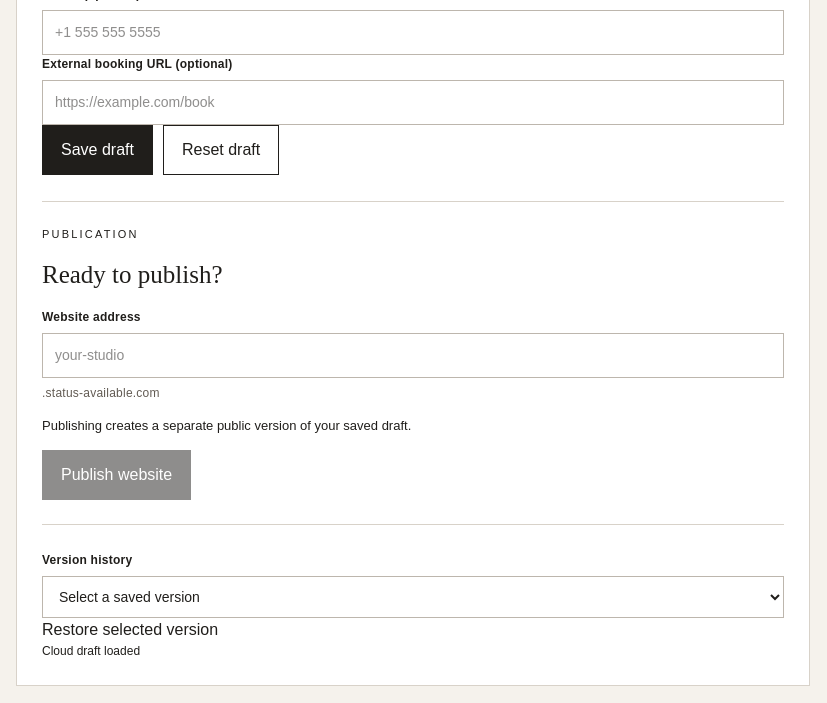
Scenario: Customer publication interface › rejects invalid and reserved addresses
The width and height of the screenshot is (827, 703).
(page scrolled)
Step 1. Clear the field with placeholder "your-studio" → (413, 355), box [42,333,784,378]
Expected: the button "Publish website" is disabled, [42,450,191,500]
Step 2. Type "ab" into the field with placeholder "your-studio" → (413, 355), box [42,333,784,378]
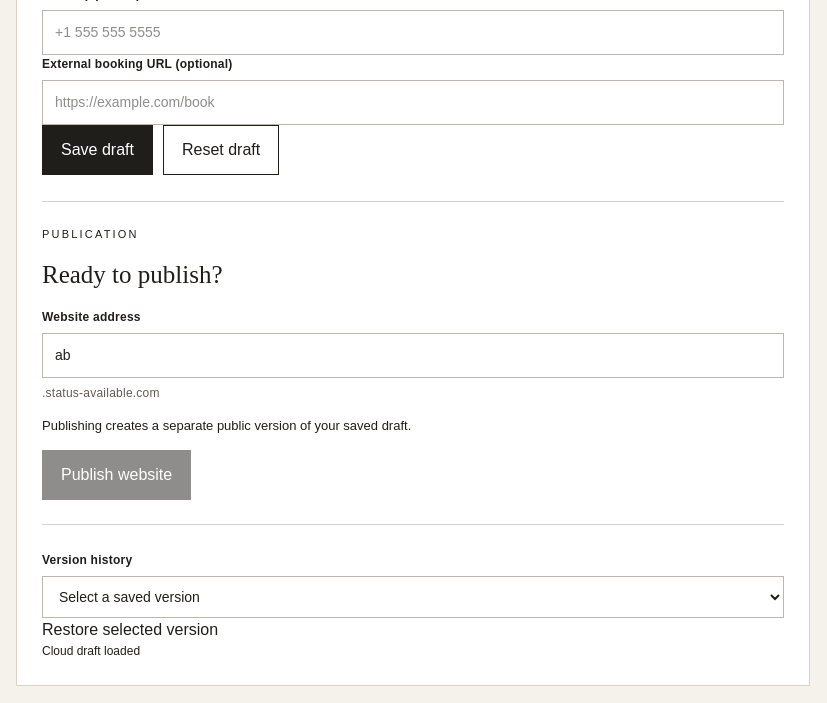
Expected: the button "Publish website" is disabled, [42,450,191,500]
Step 3. Replace the text in the field with placeholder "your-studio" with "www" → (413, 355), box [42,333,784,378]
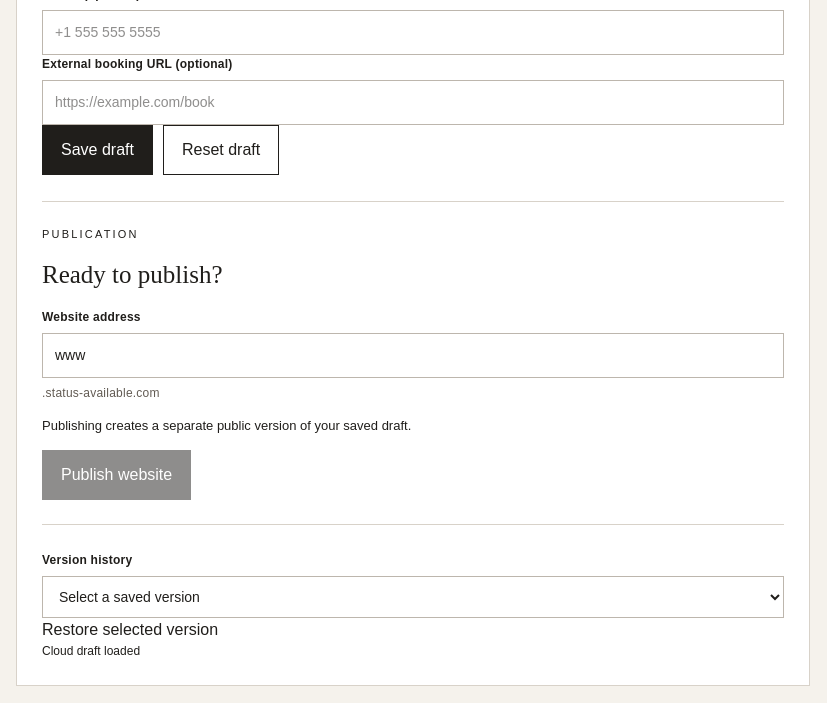
Expected: the button "Publish website" is disabled, [42,450,191,500]
Step 4. Replace the text in the field with placeholder "your-studio" with "admin" → (413, 355), box [42,333,784,378]
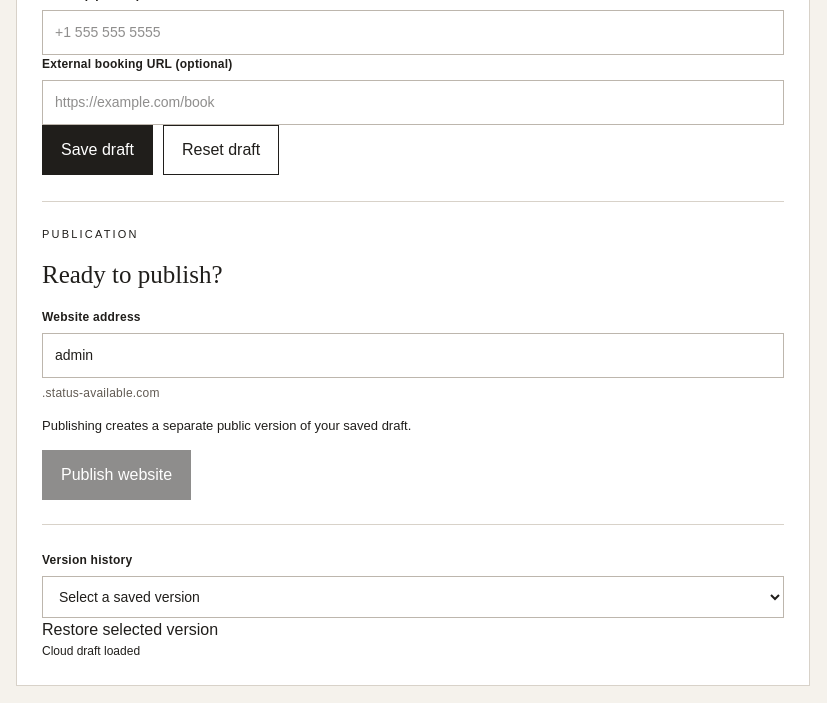
Expected: the button "Publish website" is disabled, [42,450,191,500]
Step 5. Replace the text in the field with placeholder "your-studio" with "a--b" → (413, 355), box [42,333,784,378]
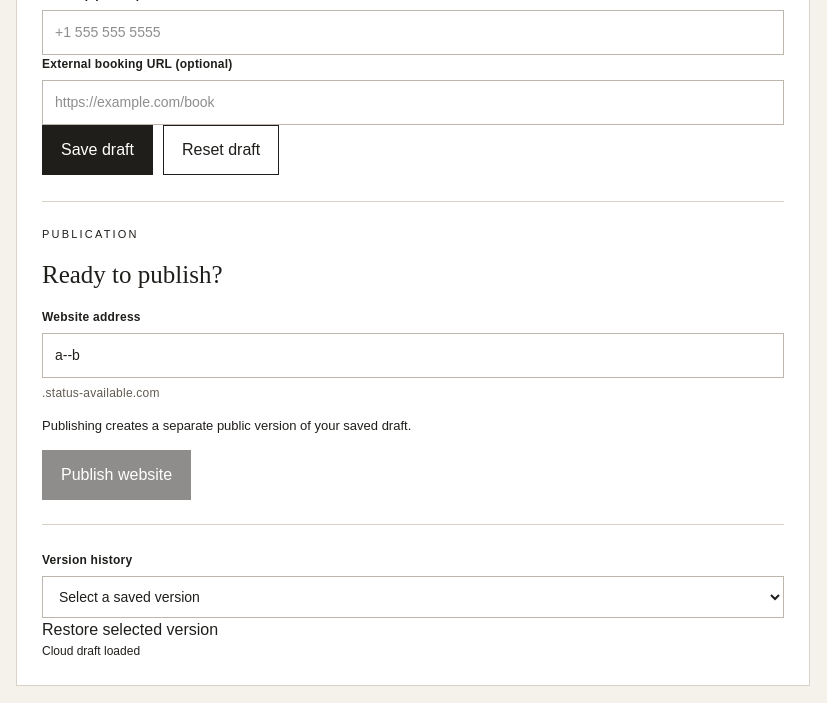
Expected: the button "Publish website" is disabled, [42,450,191,500]
Step 6. Replace the text in the field with placeholder "your-studio" with "a b" → (413, 355), box [42,333,784,378]
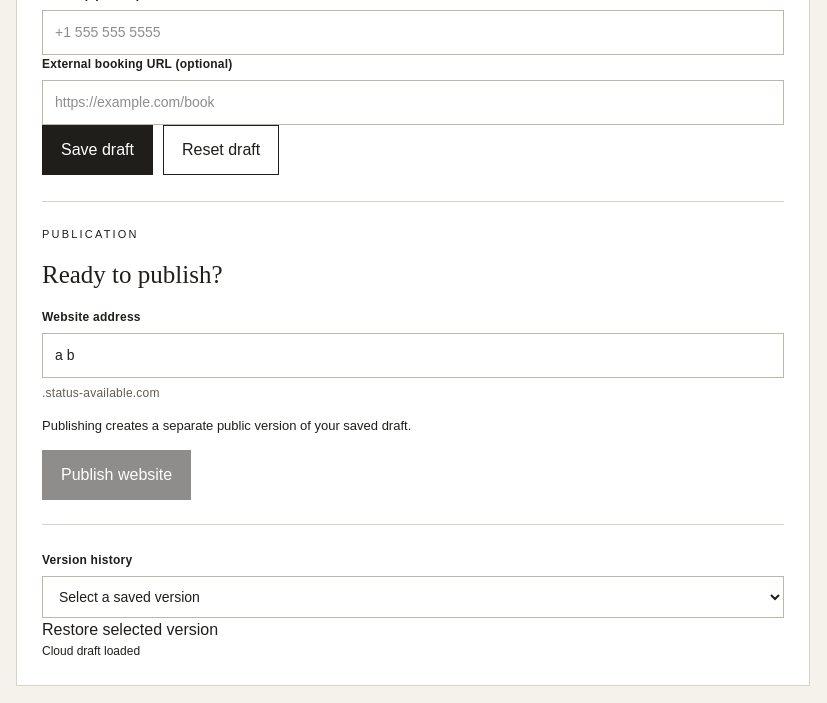
Expected: the button "Publish website" is disabled, [42,450,191,500]
Step 7. Replace the text in the field with placeholder "your-studio" with "example-studio" → (413, 355), box [42,333,784,378]
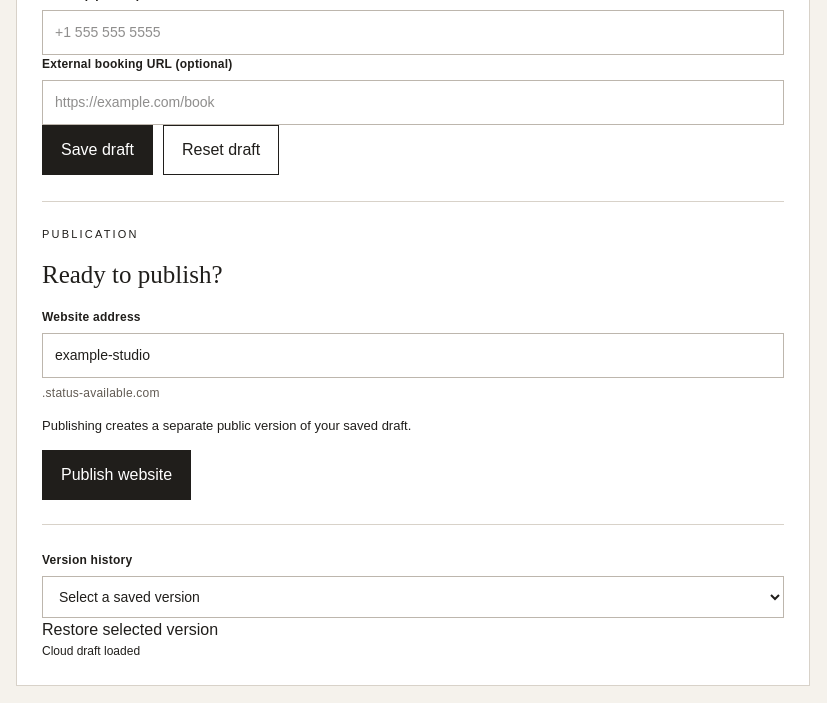
Result: the button "Publish website" is enabled at [42,450,191,500]
